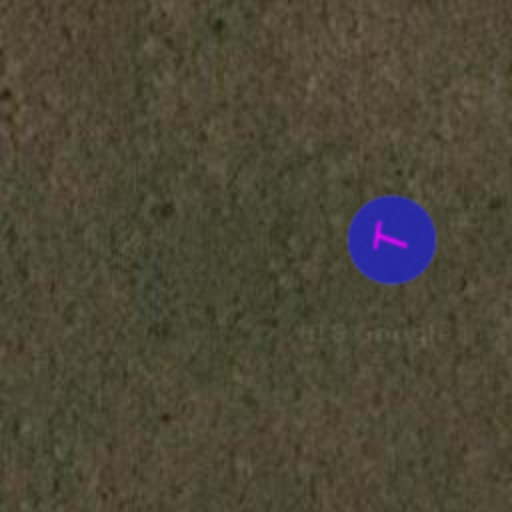circle: (340, 188, 444, 292)
